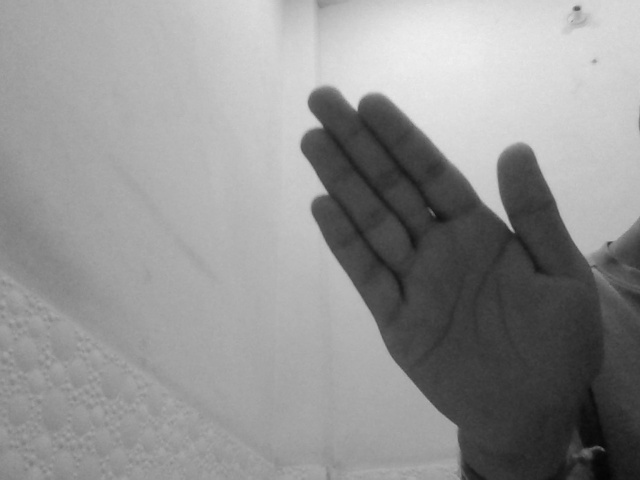Hello: (295, 81, 608, 452)
